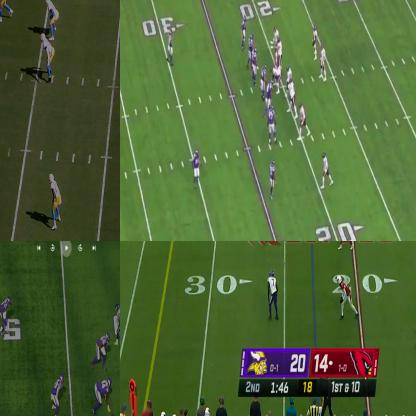CENTER: (270, 67, 282, 93)
DB: (266, 269, 280, 323), (50, 173, 62, 227), (0, 296, 13, 335), (191, 149, 202, 187), (268, 162, 274, 202), (167, 29, 174, 63)
LB: (39, 32, 53, 82), (46, 0, 60, 40), (53, 373, 65, 415), (260, 64, 266, 98), (240, 17, 245, 54)
QB: (319, 43, 329, 78)
SKILL: (336, 274, 359, 320), (298, 102, 310, 140), (322, 150, 334, 185), (112, 303, 119, 338), (312, 25, 319, 56), (338, 241, 355, 251)
